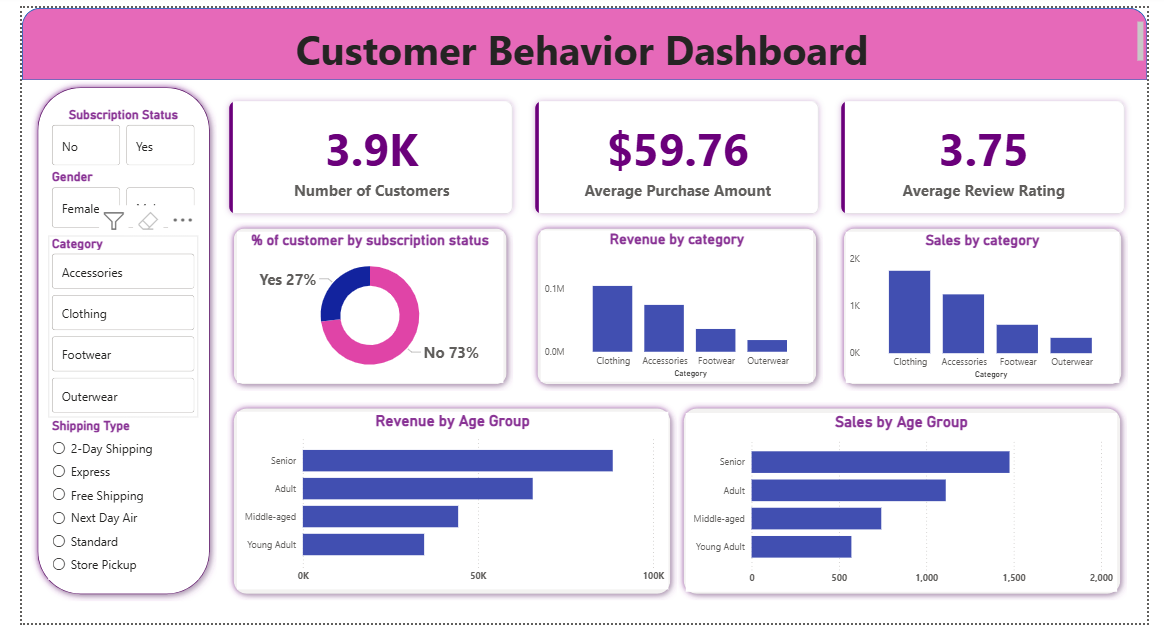

What the dashboard file says about the page in this screenshot:
{"tool":"powerbi","page":{"name":"Page 1","canvas":[1500,820],"ordinal":0},"visuals":[{"type":"cardVisual","fields":{"Data":["public customer.Number of Customers","public customer.Average Purchase Amount","public customer.Average Review Rating"]},"box":[247.7,96.2,1252.6,206.7],"z":0},{"type":"shape","box":[0,0,1500.3,96.2],"z":1000},{"type":"textbox","box":[0,12.6,1500.3,71],"z":2000},{"type":"shape","box":[272.9,285.5,381.8,225.6],"z":3000},{"type":"donutChart","title":"% of customer by subscription status","fields":{"Category":["public customer.Subscription Status"],"Y":["CountNonNull(public customer.Customer ID)"]},"box":[287.1,298.2,355,201.9],"z":4000},{"type":"shape","box":[678.4,285.5,389.7,225.6],"z":5000},{"type":"shape","box":[1087,285.5,388.1,225.6],"z":6000},{"type":"clusteredColumnChart","title":"Revenue by category","fields":{"Y":["Sum(public customer.Purchase Amount (USD))"],"Category":["public customer.Category"]},"box":[691.7,296.7,363.3,201.7],"z":7000},{"type":"clusteredColumnChart","title":"Sales by category","fields":{"Y":["CountNonNull(public customer.Customer ID)"],"Category":["public customer.Category"]},"box":[1098,298.2,364.4,201.9],"z":8000},{"type":"shape","box":[11,96.2,247.7,694.2],"z":9000},{"type":"advancedSlicerVisual","fields":{"Values":["public customer.Subscription Status"]},"box":[34.7,130.9,200.4,83.6],"z":10000},{"type":"advancedSlicerVisual","fields":{"Values":["public customer.Gender"]},"box":[34.7,214.6,200.4,83.6],"z":10001},{"type":"advancedSlicerVisual","fields":{"Values":["public customer.Category"]},"box":[34.7,302.9,200.4,243],"z":10002},{"type":"listSlicer","fields":{"Values":["public customer.Shipping Type"]},"box":[34.7,545.9,200.4,216.1],"z":10003},{"type":"shape","box":[273.3,525,600,265],"z":10005},{"type":"shape","box":[873.3,525,600,265],"z":10006},{"type":"clusteredBarChart","title":"Sales by Age Group","fields":{"Y":["CountNonNull(public customer.Customer ID)"],"Category":["public customer.Age Group Sahi"]},"box":[885,540,575,238.3],"z":10007},{"type":"clusteredBarChart","title":"Revenue by Age Group","fields":{"Y":["Sum(public customer.Purchase Amount (USD))"],"Category":["public customer.Age Group Sahi"]},"box":[286.7,538.3,575,236.7],"z":10008}]}

Visuals, with their boxes in screenshot pixels (x1, y1, x2, y2), scaled from the page's 1500x820 canvas onto the 1164x642 screenshot:
cardVisual - public customer.Number of Customers x public customer.Average Purchase Amount: (192, 75, 1163, 237)
shape: (0, 0, 1163, 75)
textbox: (0, 10, 1163, 65)
shape: (212, 224, 508, 400)
"% of customer by subscription status" donutChart: (223, 233, 498, 392)
shape: (526, 224, 829, 400)
shape: (844, 224, 1145, 400)
"Revenue by category" clusteredColumnChart: (537, 232, 819, 390)
"Sales by category" clusteredColumnChart: (852, 233, 1135, 392)
shape: (9, 75, 201, 619)
advancedSlicerVisual - public customer.Subscription Status: (27, 102, 182, 168)
advancedSlicerVisual - public customer.Gender: (27, 168, 182, 233)
advancedSlicerVisual - public customer.Category: (27, 237, 182, 427)
listSlicer - public customer.Shipping Type: (27, 427, 182, 597)
shape: (212, 411, 678, 619)
shape: (678, 411, 1143, 619)
"Sales by Age Group" clusteredBarChart: (687, 423, 1133, 609)
"Revenue by Age Group" clusteredBarChart: (222, 421, 669, 607)
